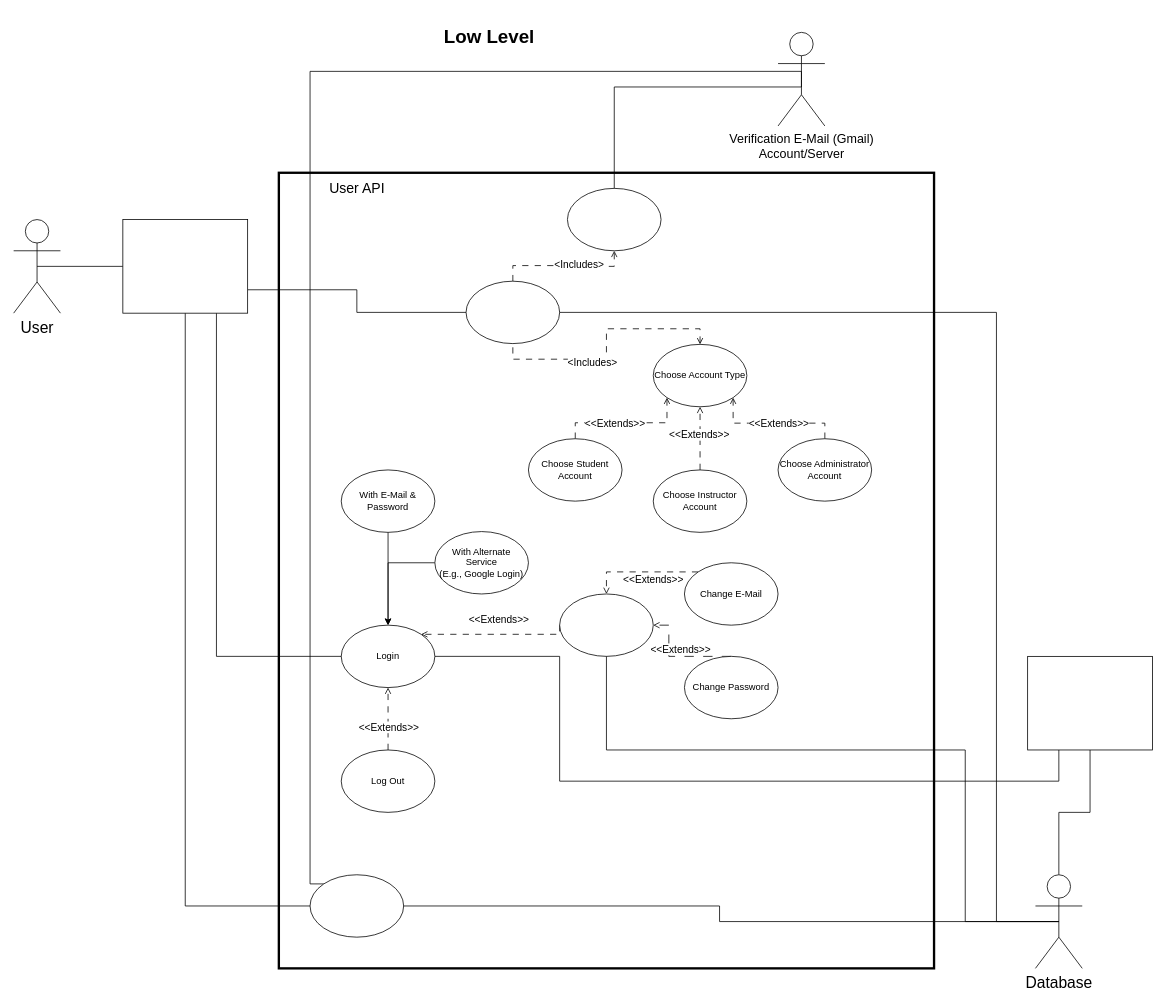
Some shapes in this 1166 by 1005 pixel diagram are drawn without their labels. The box of each missing label's shape, as (x1, y1, x2, y2) in pixels:
Edit Account: (559, 593, 653, 656)
ProofBuddy: (1027, 656, 1152, 750)
Reset Password: (309, 874, 404, 937)
Sign Up: (465, 280, 560, 344)
Verify Account: (567, 188, 661, 251)
Web Client: (122, 219, 248, 313)
